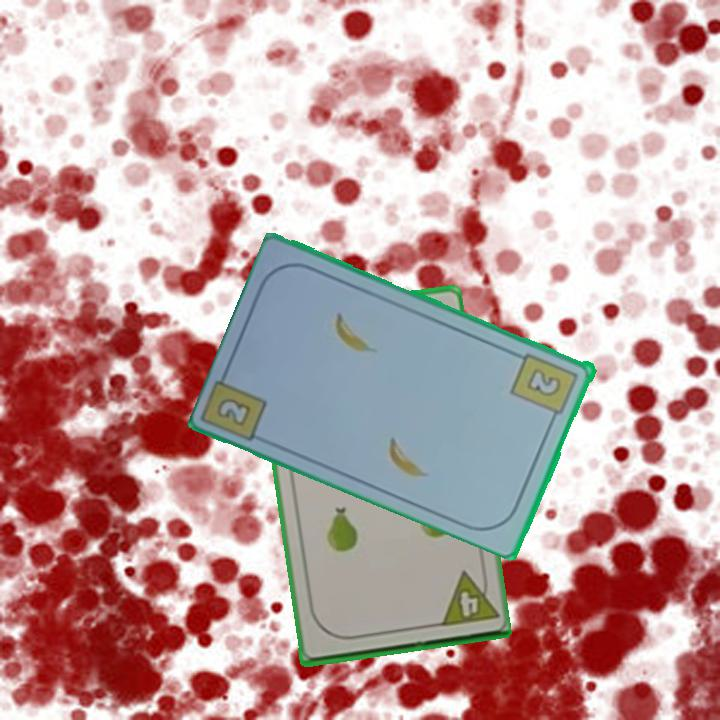2b: (508, 349, 582, 425), (213, 394, 255, 429)
4p: (435, 566, 500, 630)
